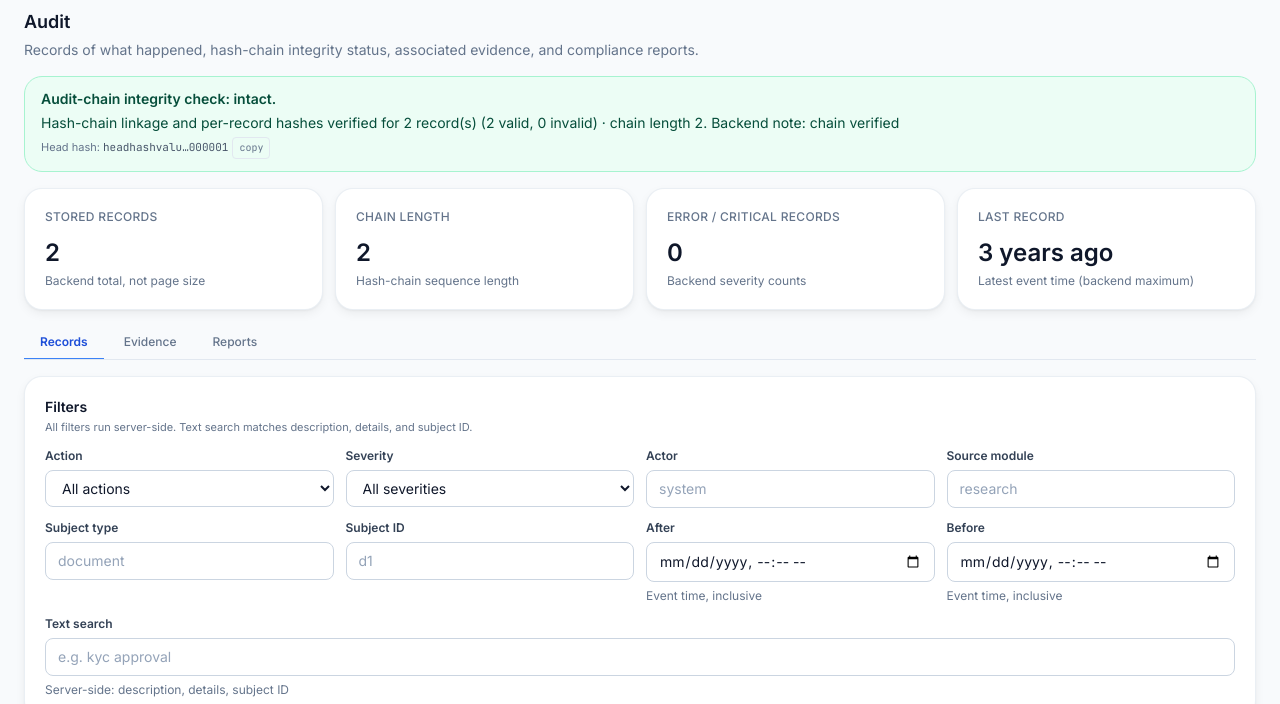
Test: reports › generation posts the real payload, selects the report, refreshes the list
This screenshot has width=1280, height=704.
Click the tab "Reports" at (235, 343), box left=196, top=326, right=273, bottom=360
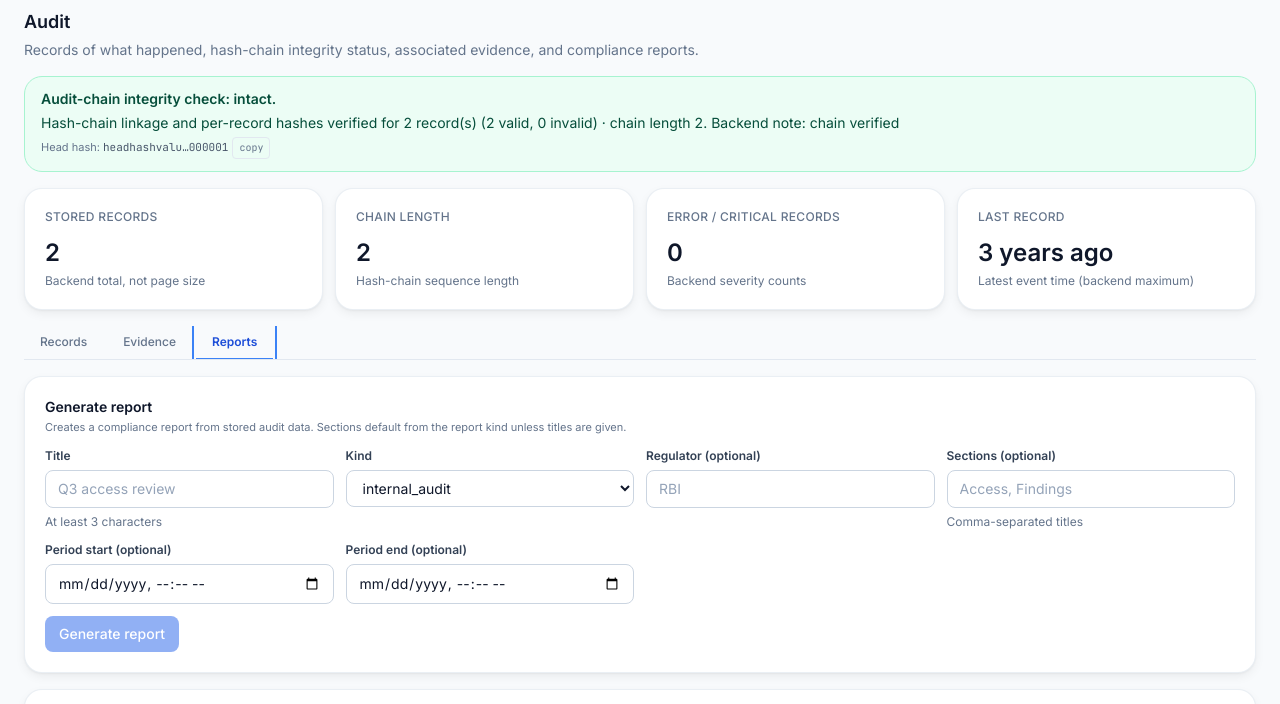
Now the field labelled "Title" is shown
Type "Q4 review" into the field labelled "Title" at (189, 489), box left=45, top=470, right=334, bottom=508
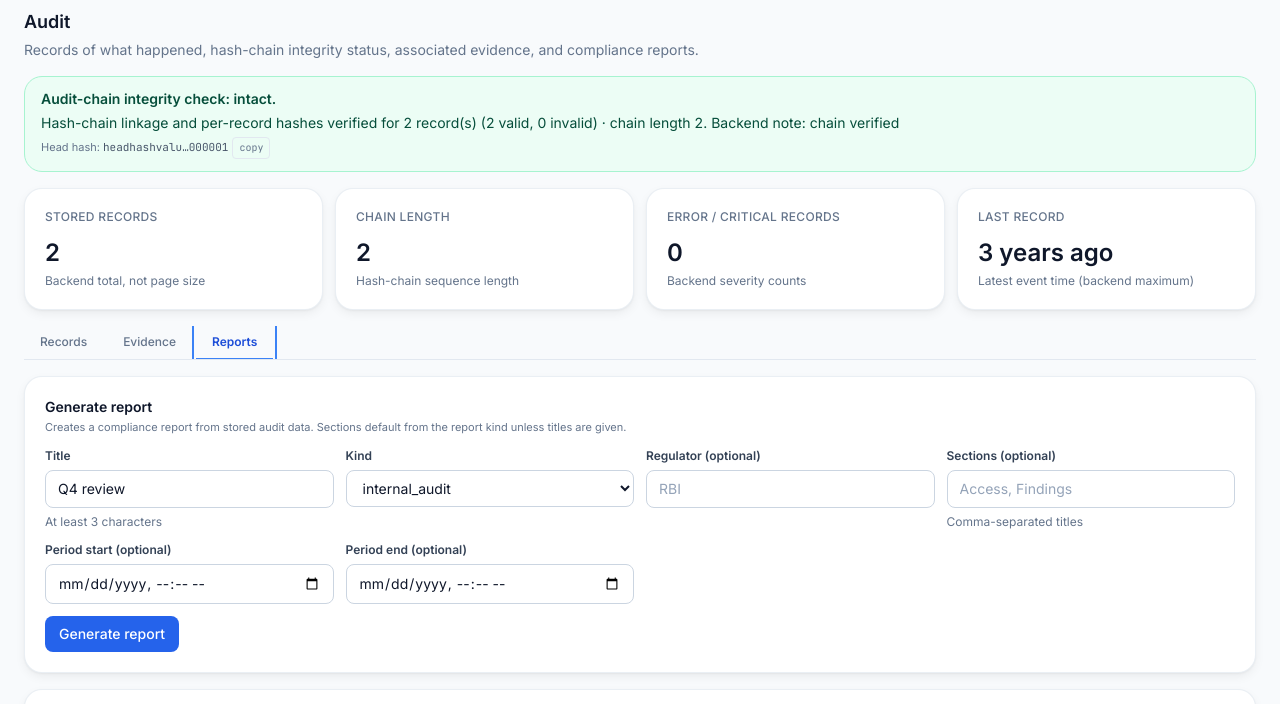
Click the button "Generate report" at (112, 634), box left=45, top=616, right=179, bottom=652
(page scrolled)
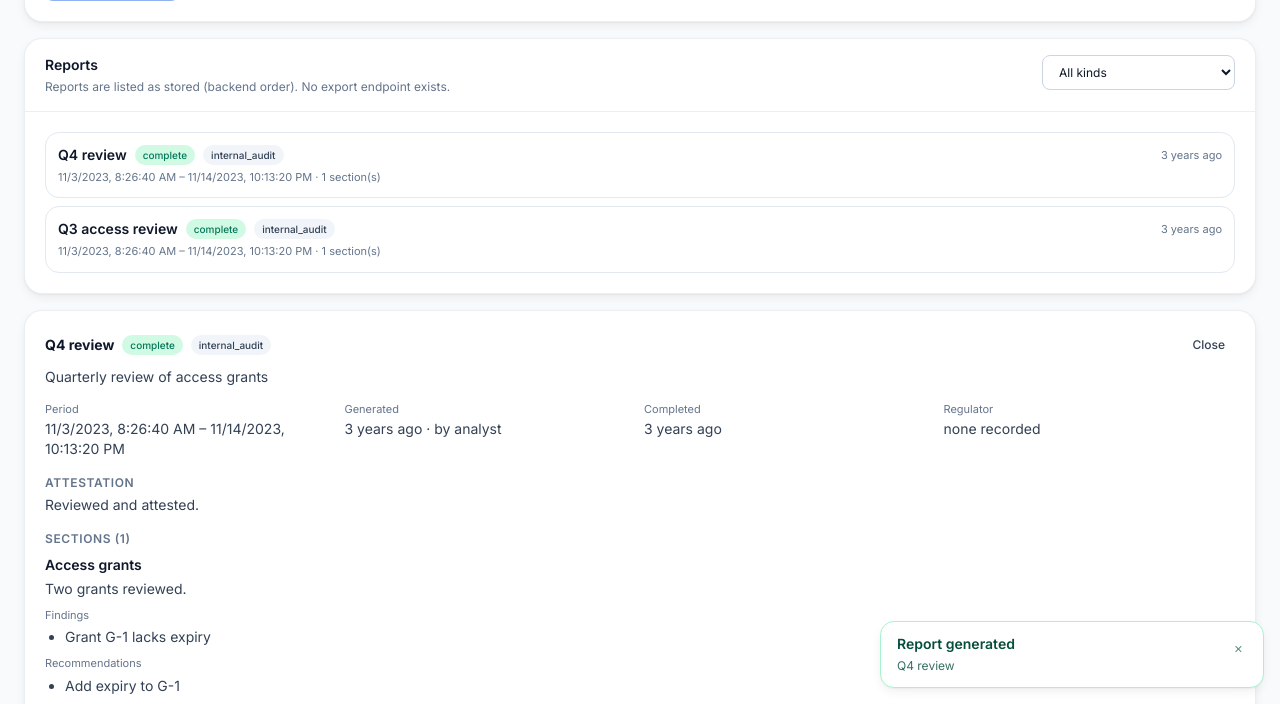
Now the 1st text "Q4 review" is shown, box left=58, top=145, right=127, bottom=165
Now the heading "Q4 review" is shown, box left=45, top=335, right=114, bottom=355
